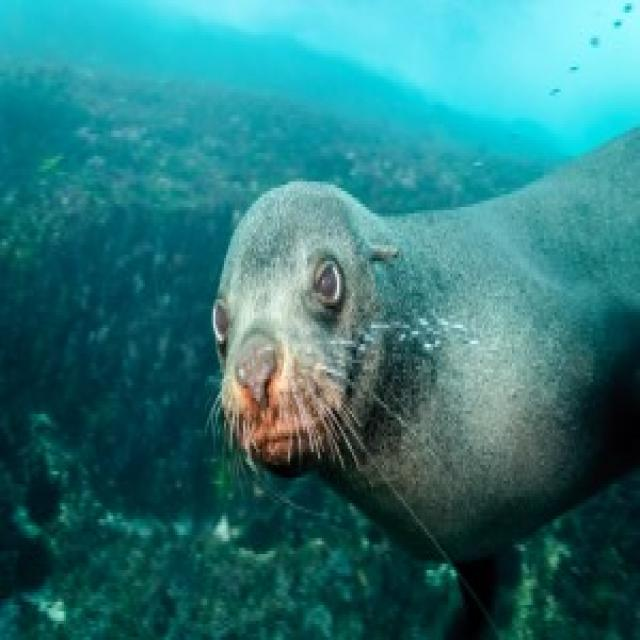Seal: (195, 127, 640, 577)
